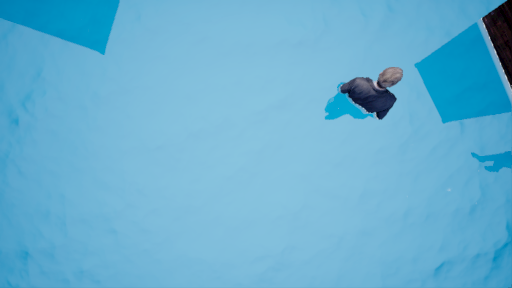person: (316, 64, 405, 136)
